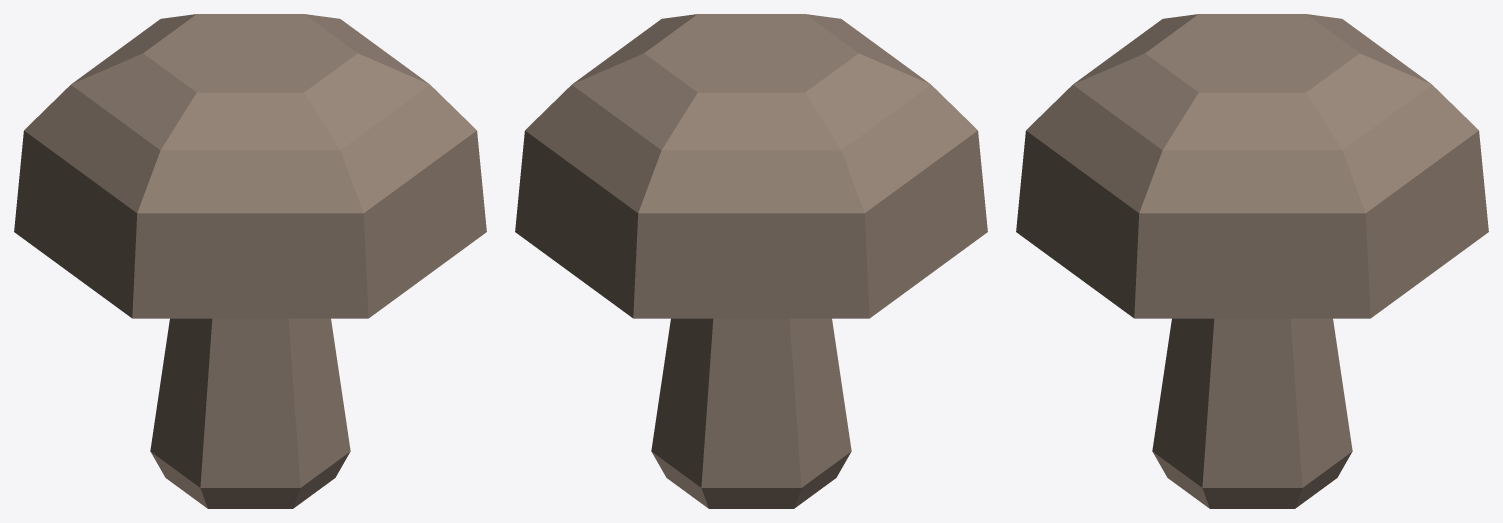
File: mushroom.glb
3 views of the same model, side by side, from view 1: azimuth 30°, elevation 25°; view 2: azimuth 150°, elevation 25°; view 3: azimuth 270°, elevation 25° (orthographic).
Parts seen in each view (by area): view 1: Mushroom; view 2: Mushroom; view 3: Mushroom.
Part boxes in pixels (box(x1,y1,x2,y2)): Mushroom: box(14, 14, 486, 508); Mushroom: box(515, 14, 987, 508); Mushroom: box(1016, 14, 1488, 508).
Bounding box in the file's own units: 0.3581 × 0.4096 × 0.4134.
